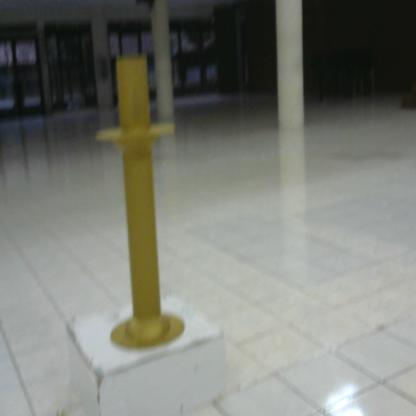pole: (90, 51, 196, 360)
